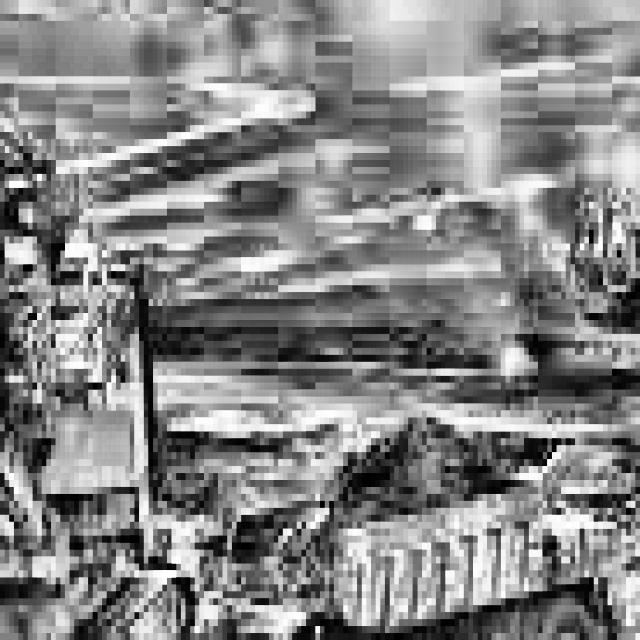dump_truck: (185, 382, 640, 640)
